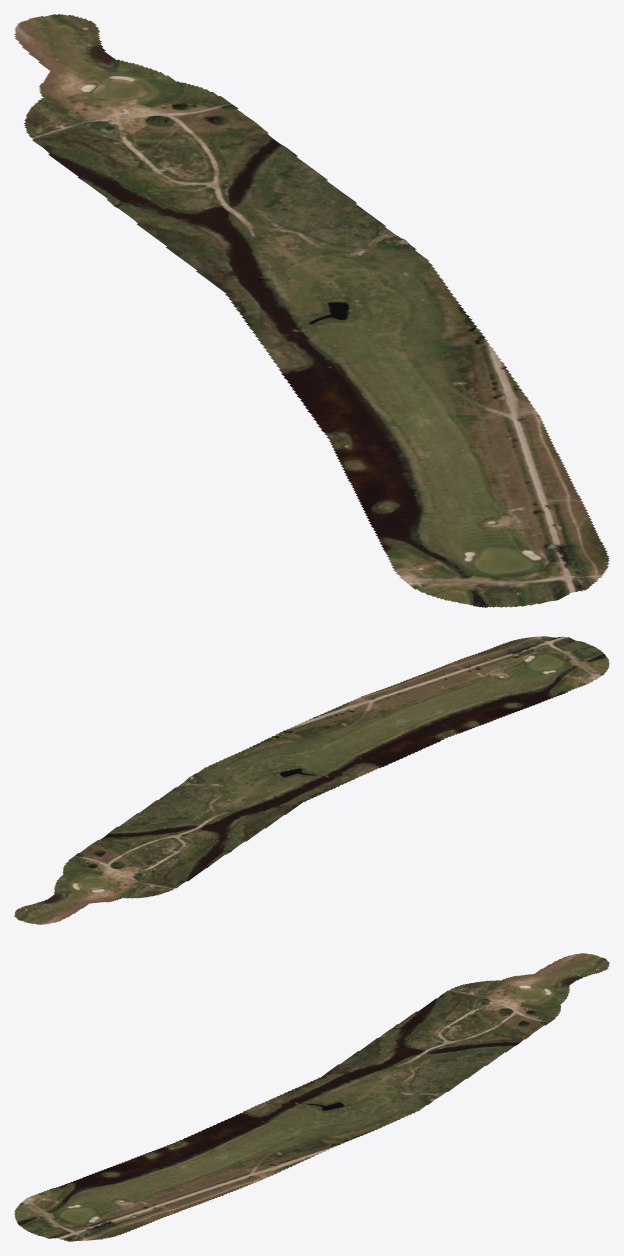
The model's file is flommen_15.glb.
3 views of the same model, one above another, from view 1: azimuth 30°, elevation 25°; view 2: azimuth 150°, elevation 25°; view 3: azimuth 330°, elevation 25° (orthographic). The views are drawn at different scales.
Visible parts, largest first — view 1: ground; view 2: ground; view 3: ground.
Part boxes in pixels (<box>): ground: <box>14,14,609,607</box>; ground: <box>14,636,609,924</box>; ground: <box>14,953,609,1241</box>.
Bounding box in the file's own units: 195 × 2.16 × 681.
Materials: 1 (1 with a texture image).
